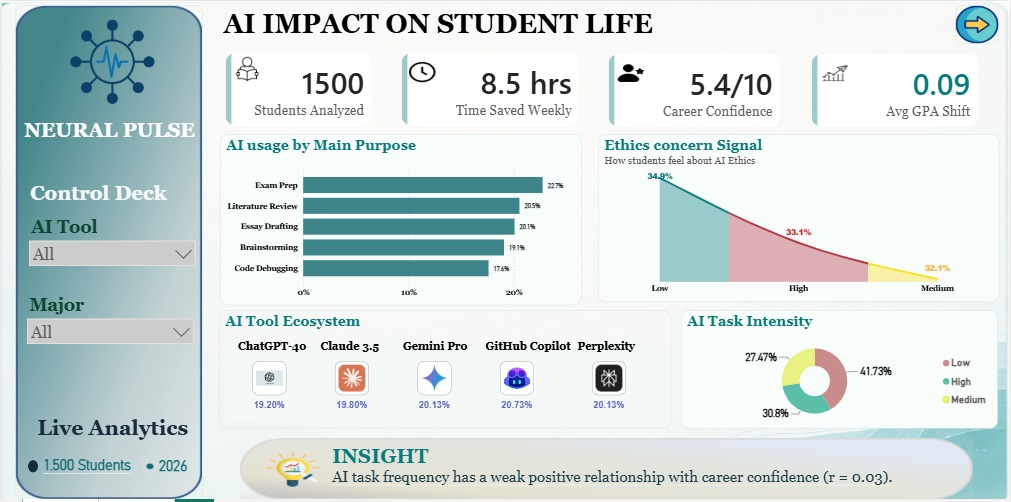

Layout of this report page (visuals, bound fields, positions):
{"tool":"powerbi","page":{"name":"Page 1","canvas":[1600,800],"ordinal":0},"visuals":[{"type":"image","box":[20,6.7,298.3,785],"z":0},{"type":"cardVisual","fields":{"Data":["Measures Table.Students Analyzed"]},"box":[338.3,65,266,150],"z":0,"group":"g2"},{"type":"cardVisual","fields":{"Data":["Measures Table.Time Saved Weekly"]},"box":[616.7,65,316,150],"z":0,"group":"g3"},{"type":"cardVisual","fields":{"Data":["Measures Table.Career Confidence"]},"box":[946.7,66.7,306,150],"z":0,"group":"g4"},{"type":"cardVisual","fields":{"Data":["Measures Table.Avg GPA Shift"]},"box":[1268.3,66.7,298,150],"z":0,"group":"g5"},{"type":"actionButton","box":[236,708,70,58],"z":0,"group":"g1"},{"type":"image","box":[362.8,87.4,55.5,41.4],"z":1000,"group":"g2"},{"type":"image","box":[645.1,97,41.6,32],"z":1000,"group":"g3"},{"type":"image","box":[976.7,98.7,44,32],"z":1000,"group":"g4"},{"type":"image","box":[1298.3,98.7,48,32],"z":1000,"group":"g5"},{"type":"shape","box":[42,728,16,20],"z":1000},{"type":"shape","box":[224,728,22,20],"z":1000,"group":"g1"},{"type":"actionButton","box":[46,648,260,60],"z":2000},{"type":"group","id":"g1","title":"2026","box":[224,708,82,58],"z":3000},{"type":"image","box":[1512,6,70,62],"z":4000},{"type":"slicer","fields":{"Values":["AI_Impact_Student_Life_2026.Major"]},"box":[30,460,284,90],"z":5000},{"type":"slicer","fields":{"Values":["AI_Impact_Student_Life_2026.Primary_AI_Tool"]},"box":[34,336,284,90],"z":6000},{"type":"textbox","box":[30,182,288,66],"z":7000},{"type":"image","box":[42,26,268,142],"z":8000},{"type":"textbox","box":[40,282,270,54],"z":9000},{"type":"textbox","box":[346,6,718,60],"z":10000},{"type":"group","id":"g2","title":"Group 2","box":[338.3,65,265,150],"z":11000},{"type":"group","id":"g3","title":"Group 2","box":[616.7,65,316.7,150],"z":12000},{"type":"group","id":"g4","title":"Group 2","box":[946.7,66.7,306.7,150],"z":13000},{"type":"group","id":"g5","title":"Group 2","box":[1268.3,66.7,296.7,150],"z":14000},{"type":"textbox","box":[60,718,164,58],"z":15000},{"type":"barChart","title":"AI usage by Main Purpose","fields":{"Category":["Data.Main_Usage_Case"],"Y":["Measures Table.Ai usage perc"]},"box":[346.7,211.7,574,272],"z":16000},{"type":"areaChart","title":"Ethics concern Signal","fields":{"Category":["Data.AI_Ethics_Concern"],"Y":["Measures Table.Visual Ethics concern"]},"box":[946.7,211.7,636.7,266.7],"z":17000},{"type":"pivotTable","title":"AI Tool Ecosystem","fields":{"Columns":["AI Tools Images.Tool"],"Values":["Measures Table.Svg image logo"]},"box":[345,490,718.3,188.3],"z":18000},{"type":"group","id":"g6","title":"Group 3","box":[377.8,694.4,1163,98.1],"z":19000},{"type":"image","title":"rr","box":[377.8,694.4,1163.2,98.3],"z":19000,"group":"g7"},{"type":"donutChart","title":"AI Task Intensity","fields":{"Category":["Data.Task_Ai_Intensity"],"Y":["Measures Table.Students Analyzed for Tools"]},"box":[1078.3,490,503.3,188.3],"z":20000},{"type":"group","id":"g7","title":"Group 1","box":[377.8,694.4,1163.2,98.3],"z":20000,"group":"g6"},{"type":"image","box":[414.3,716.1,94.4,55],"z":20000,"group":"g7"},{"type":"textbox","box":[519,700,1015.2,88.3],"z":20500,"group":"g6"}]}

Visuals, with their boxes in screenshot pixels (x1, y1, x2, y2), scaled from the page's 1600x800 canvas onto the 1011x502 screenshot:
image: select_region(13, 4, 201, 497)
cardVisual - Measures Table.Students Analyzed: select_region(214, 41, 382, 135)
cardVisual - Measures Table.Time Saved Weekly: select_region(390, 41, 589, 135)
cardVisual - Measures Table.Career Confidence: select_region(598, 42, 792, 136)
cardVisual - Measures Table.Avg GPA Shift: select_region(801, 42, 990, 136)
actionButton: select_region(149, 444, 193, 481)
image: select_region(229, 55, 264, 81)
image: select_region(408, 61, 434, 81)
image: select_region(617, 62, 645, 82)
image: select_region(820, 62, 851, 82)
shape: select_region(27, 457, 37, 469)
shape: select_region(142, 457, 155, 469)
actionButton: select_region(29, 407, 193, 444)
"2026" group: select_region(142, 444, 193, 481)
image: select_region(955, 4, 1000, 43)
slicer - AI_Impact_Student_Life_2026.Major: select_region(19, 289, 198, 345)
slicer - AI_Impact_Student_Life_2026.Primary_AI_Tool: select_region(21, 211, 201, 267)
textbox: select_region(19, 114, 201, 156)
image: select_region(27, 16, 196, 105)
textbox: select_region(25, 177, 196, 211)
textbox: select_region(219, 4, 672, 41)
"Group 2" group: select_region(214, 41, 381, 135)
"Group 2" group: select_region(390, 41, 590, 135)
"Group 2" group: select_region(598, 42, 792, 136)
"Group 2" group: select_region(801, 42, 989, 136)
textbox: select_region(38, 451, 142, 487)
"AI usage by Main Purpose" barChart: select_region(219, 133, 582, 304)
"Ethics concern Signal" areaChart: select_region(598, 133, 1001, 300)
"AI Tool Ecosystem" pivotTable: select_region(218, 307, 672, 426)
"Group 3" group: select_region(239, 436, 974, 497)
"rr" image: select_region(239, 436, 974, 497)
"AI Task Intensity" donutChart: select_region(681, 307, 999, 426)
"Group 1" group: select_region(239, 436, 974, 497)
image: select_region(262, 449, 321, 484)
textbox: select_region(328, 439, 969, 495)
